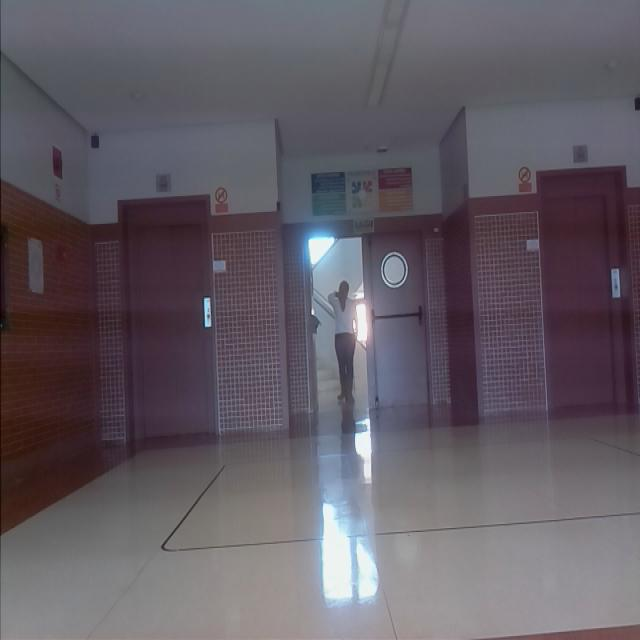person: (322, 280, 361, 411)
